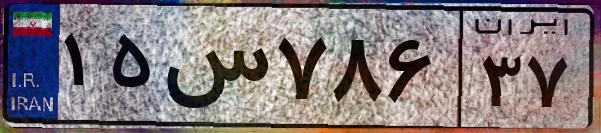1: (57, 26, 110, 100)
3: (475, 38, 525, 113)
5: (110, 28, 158, 98)
6: (385, 28, 445, 110)
7: (270, 28, 330, 110), (525, 38, 570, 115)
8: (330, 28, 385, 110)
س: (158, 20, 270, 120)
